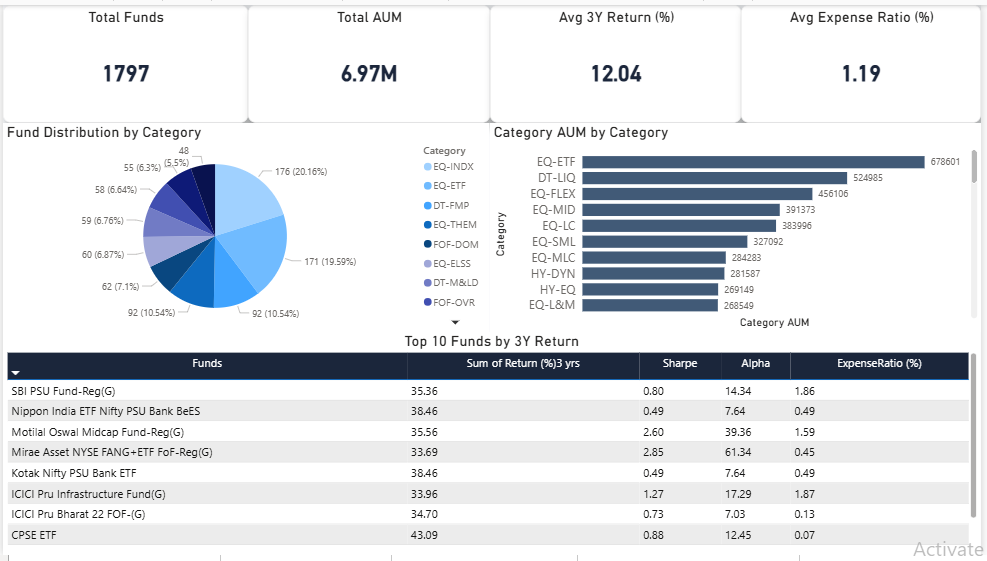

This screenshot's page, from the dashboard's own definition file:
{"tool":"powerbi","page":{"name":"Executive_Overview_Dashboard","canvas":[1280,720],"ordinal":0},"visuals":[{"type":"card","title":"Total Funds","fields":{"Values":["cleaned_mutualfund_dataset.Total Funds"]},"box":[0,0,320.7,154.2],"z":0},{"type":"card","title":"Total AUM","fields":{"Values":["cleaned_mutualfund_dataset.Total AUM"]},"box":[320.7,0,316.6,154.2],"z":1000},{"type":"card","title":"Avg 3Y Return (%)","fields":{"Values":["cleaned_mutualfund_dataset.Avg 3Y Return"]},"box":[637.2,0,328.9,154.2],"z":2000},{"type":"card","title":"Avg Expense Ratio (%)","fields":{"Values":["cleaned_mutualfund_dataset.Avg Expense Ratio"]},"box":[966.2,0,313.8,154.2],"z":3000},{"type":"pieChart","title":"Fund Distribution by Category","fields":{"Category":["cleaned_mutualfund_dataset.Category"],"Y":["cleaned_mutualfund_dataset.Total Funds"]},"box":[0,154.2,637.2,273.9],"z":4000},{"type":"clusteredBarChart","fields":{"Category":["cleaned_mutualfund_dataset.Category"],"Y":["cleaned_mutualfund_dataset.Category AUM"]},"box":[637.5,154.5,642.8,273.6],"z":5000},{"type":"tableEx","title":"Top 10 Funds by 3Y Return","fields":{"Values":["cleaned_mutualfund_dataset.Funds","Sum(cleaned_mutualfund_dataset.Return (%)3 yrs)","cleaned_mutualfund_dataset.Sharpe","cleaned_mutualfund_dataset.Alpha","cleaned_mutualfund_dataset.ExpenseRatio (%)"]},"box":[0,428,1280,291.8],"z":6000}]}

Visuals, with their boxes in screenshot pixels (x1, y1, x2, y2), scaled from the page's 1280x720 canvas onto the 987x561 screenshot:
"Total Funds" card: (left=0, top=0, right=247, bottom=120)
"Total AUM" card: (left=247, top=0, right=491, bottom=120)
"Avg 3Y Return (%)" card: (left=491, top=0, right=745, bottom=120)
"Avg Expense Ratio (%)" card: (left=745, top=0, right=986, bottom=120)
"Fund Distribution by Category" pieChart: (left=0, top=120, right=491, bottom=334)
clusteredBarChart - cleaned_mutualfund_dataset.Category x cleaned_mutualfund_dataset.Category AUM: (left=492, top=120, right=986, bottom=334)
"Top 10 Funds by 3Y Return" tableEx: (left=0, top=333, right=986, bottom=560)
